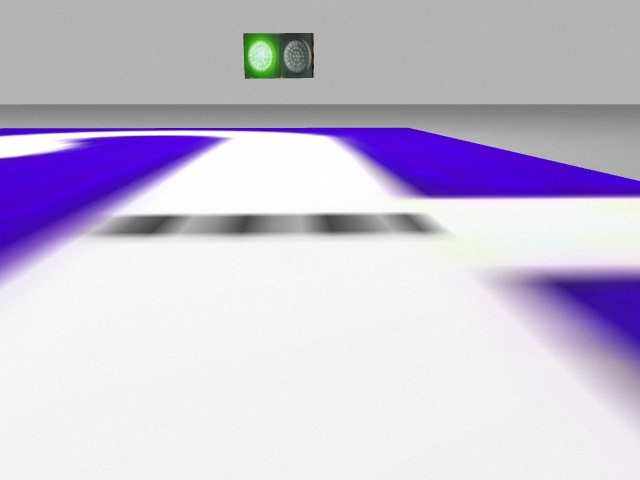green: (245, 33, 281, 79)
